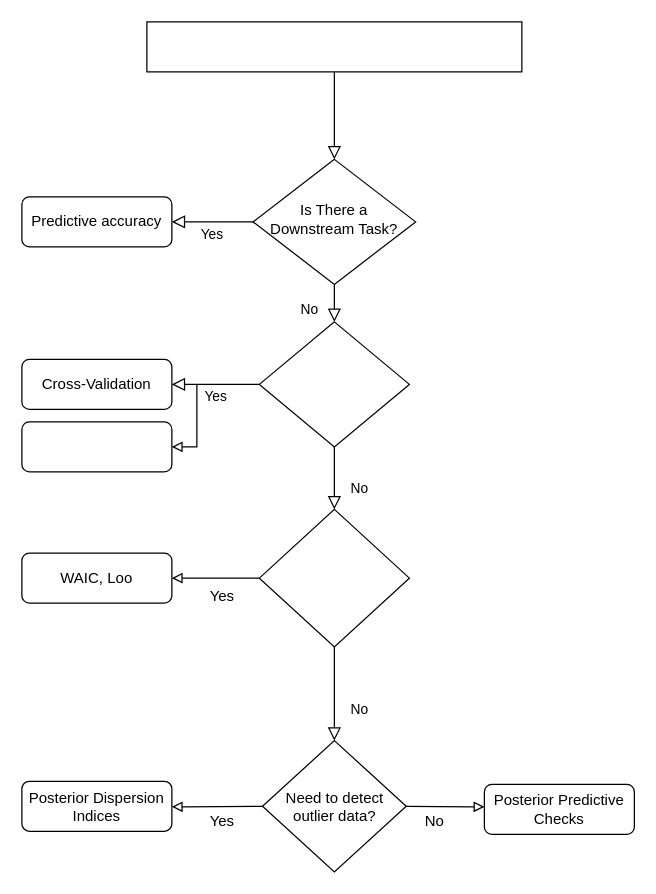
Image size: 656x894. Some labels were removed from this diagram. Here are the shapes that lost their labels. From the top down, the centre of each, then its label:
At pixel 334 46: "How should I evaluate my model?".
At pixel 333 384: "Enough out of Sample Data?".
At pixel 96 446: "Held-out Likelhood".
At pixel 333 577: "Need a single number?".
